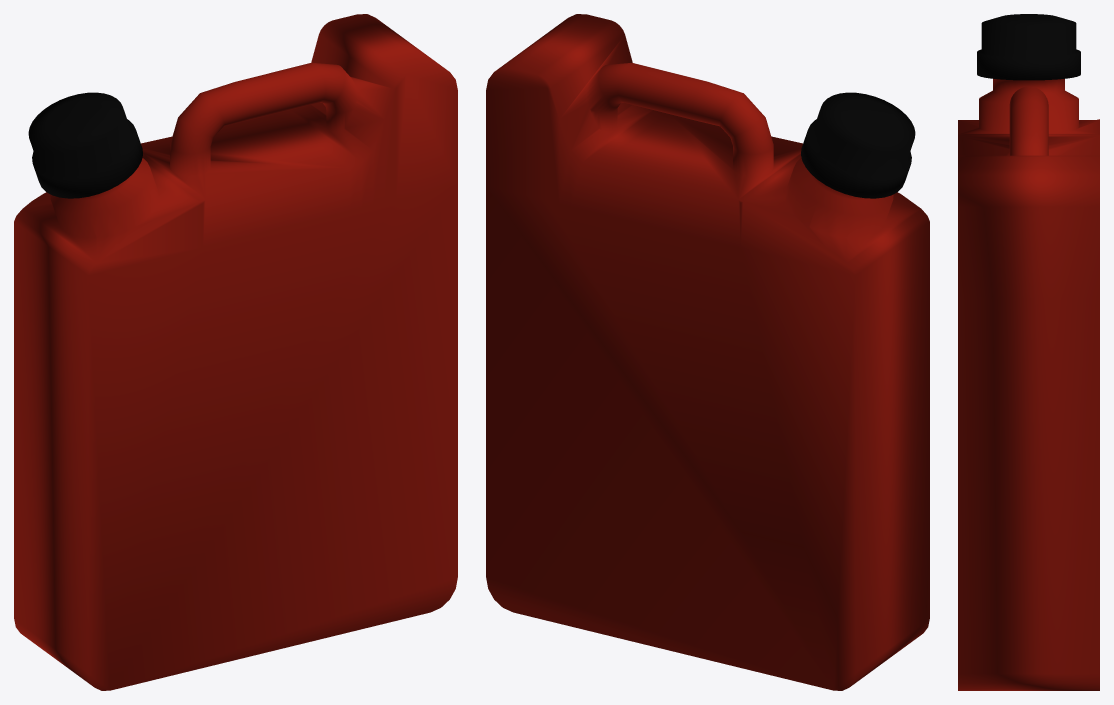
Rendered from gas sem x.fbx.
3 renders of one model, left to right at view 1: azimuth 30°, elevation 25°; view 2: azimuth 150°, elevation 25°; view 3: azimuth 270°, elevation 25°, orthographic. The views are drawn at different scales.
Visible parts, largest first — view 1: Galão.001; view 2: Galão.001; view 3: Galão.001.
Part boxes in pixels (bbox=[...]): Galão.001: bbox=[14, 14, 457, 690]; Galão.001: bbox=[486, 14, 929, 690]; Galão.001: bbox=[958, 14, 1099, 690].
Size of the model in its own units: 71.96 by 98.91 by 24.
